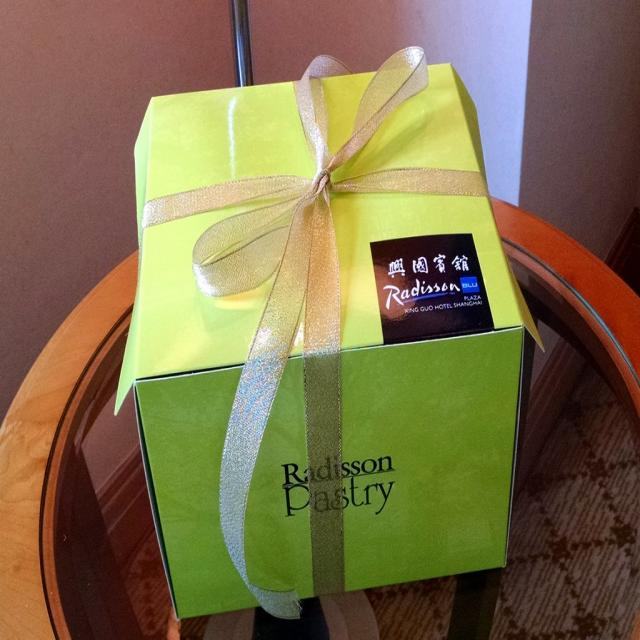Box: (130, 45, 410, 620)
